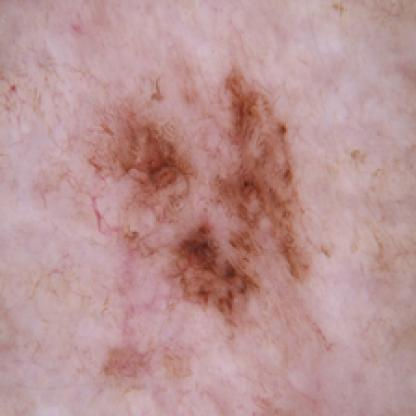Skin_Cancer-Malignant: (103, 66, 314, 326)
